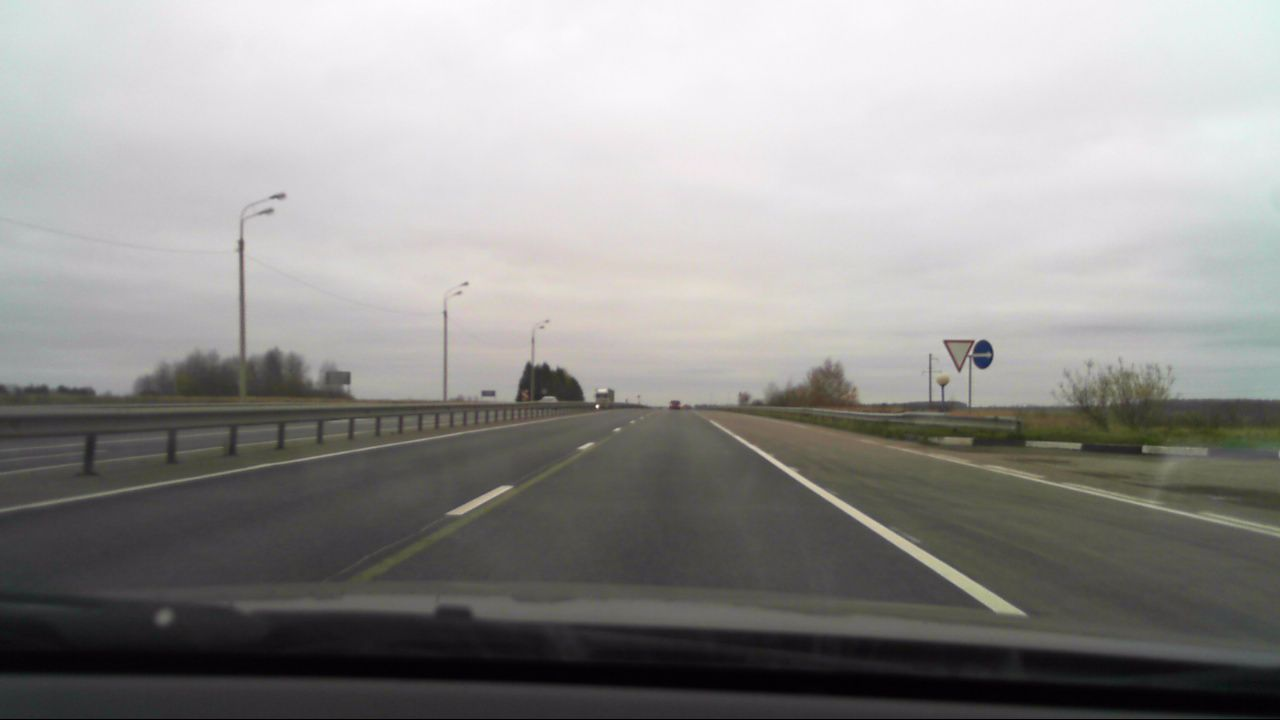Turn Right: (973, 339, 994, 369)
